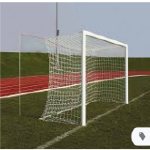goals: (39, 30, 130, 127)
